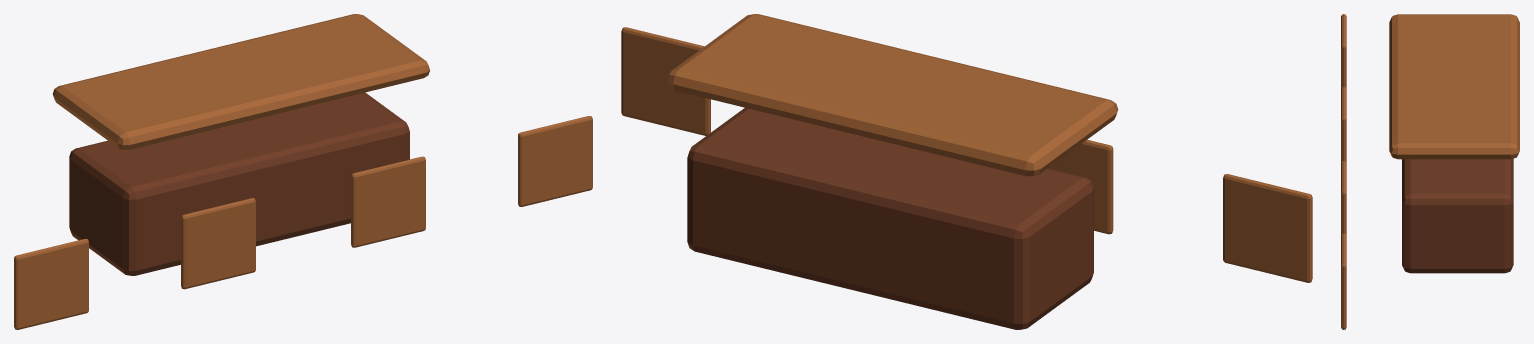
File: PR3D_Environment_Counter.fbx
The picture shows the model from 3 angles, left to right: view 1: azimuth 30°, elevation 25°; view 2: azimuth 150°, elevation 25°; view 3: azimuth 270°, elevation 25°; orthographic projection. The views are drawn at different scales.
Visible parts, largest first — view 1: Visual_CounterBody, Visual_CounterTop, Visual_CounterPanel.001, Visual_CounterPanel.002, Visual_CounterPanel, Visual_CounterPanel.003; view 2: Visual_CounterBody, Visual_CounterTop, Visual_CounterPanel, Visual_CounterPanel.003, Visual_CounterPanel.001; view 3: Visual_CounterTop, Visual_CounterBody, Visual_CounterPanel.003, Visual_CounterPanel.001, Visual_CounterPanel, Visual_CounterPanel.002.
Part boxes in pixels (left/top/right/bottom): Visual_CounterBody: left=69, top=92, right=409, bottom=275; Visual_CounterTop: left=53, top=14, right=430, bottom=150; Visual_CounterPanel.001: left=181, top=198, right=255, bottom=289; Visual_CounterPanel.002: left=351, top=156, right=425, bottom=247; Visual_CounterPanel: left=14, top=238, right=88, bottom=329; Visual_CounterPanel.003: left=518, top=116, right=592, bottom=206; Visual_CounterBody: left=687, top=107, right=1093, bottom=329; Visual_CounterTop: left=667, top=14, right=1118, bottom=176; Visual_CounterPanel: left=1223, top=174, right=1312, bottom=282; Visual_CounterPanel.003: left=621, top=27, right=710, bottom=135; Visual_CounterPanel.001: left=1048, top=139, right=1113, bottom=234; Visual_CounterTop: left=1389, top=14, right=1519, bottom=159; Visual_CounterBody: left=1402, top=158, right=1513, bottom=273; Visual_CounterPanel.003: left=1341, top=233, right=1346, bottom=329; Visual_CounterPanel.001: left=1341, top=86, right=1346, bottom=162; Visual_CounterPanel: left=1341, top=14, right=1346, bottom=88; Visual_CounterPanel.002: left=1341, top=161, right=1346, bottom=235.
Bounding box in the file's own units: 3.74 × 0.94 × 1.12.
